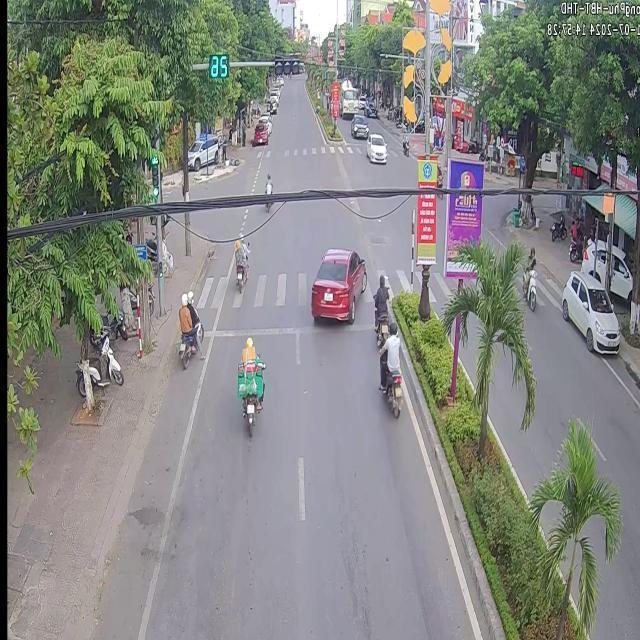car: (559, 269, 619, 351), (309, 247, 366, 322), (364, 131, 386, 162), (349, 111, 367, 138)
green_light: (149, 155, 158, 202), (208, 57, 226, 78)
motobike: (236, 336, 263, 435), (177, 291, 202, 367), (372, 285, 387, 345), (520, 245, 534, 309), (232, 236, 248, 290), (383, 369, 400, 416)
stop_line: (213, 325, 313, 336), (344, 322, 372, 329)
